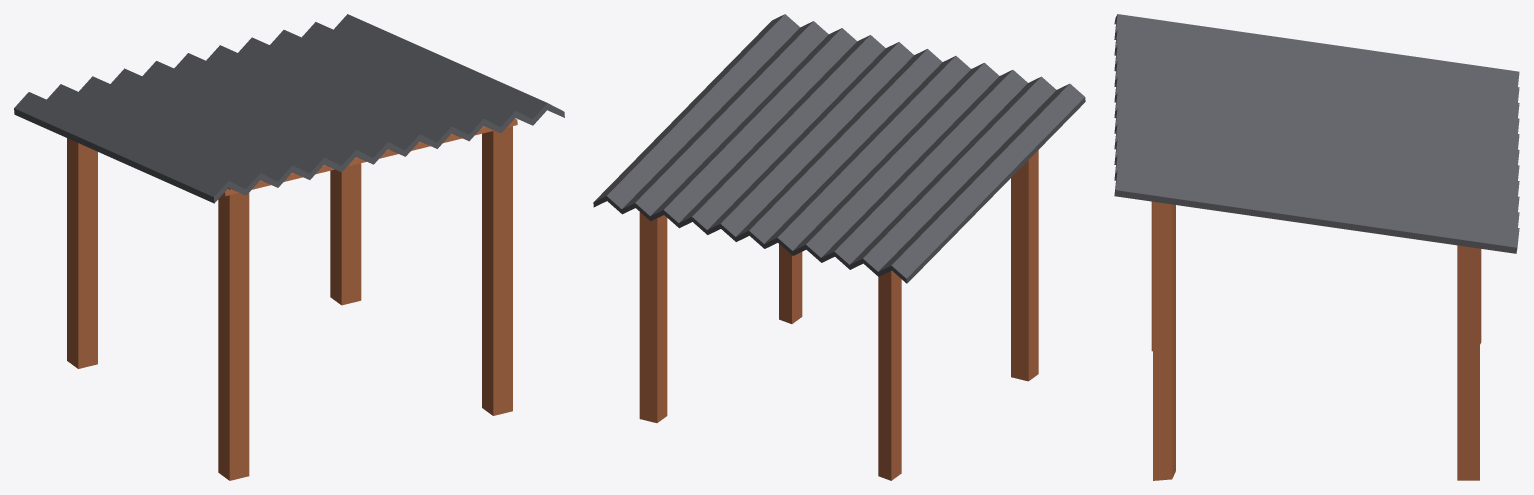
File: FarmRoof.fbx
3 views of the same model, side by side, from view 1: azimuth 30°, elevation 25°; view 2: azimuth 150°, elevation 25°; view 3: azimuth 270°, elevation 25° (orthographic). The views are drawn at different scales.
Visible parts, largest first — view 1: FarmRoof; view 2: FarmRoof; view 3: FarmRoof.
Part boxes in pixels (bbox=[...]): FarmRoof: bbox=[14, 14, 564, 480]; FarmRoof: bbox=[593, 14, 1085, 480]; FarmRoof: bbox=[1114, 14, 1519, 480].
Bounding box in the file's own units: 4 × 3.98 × 3.46.
